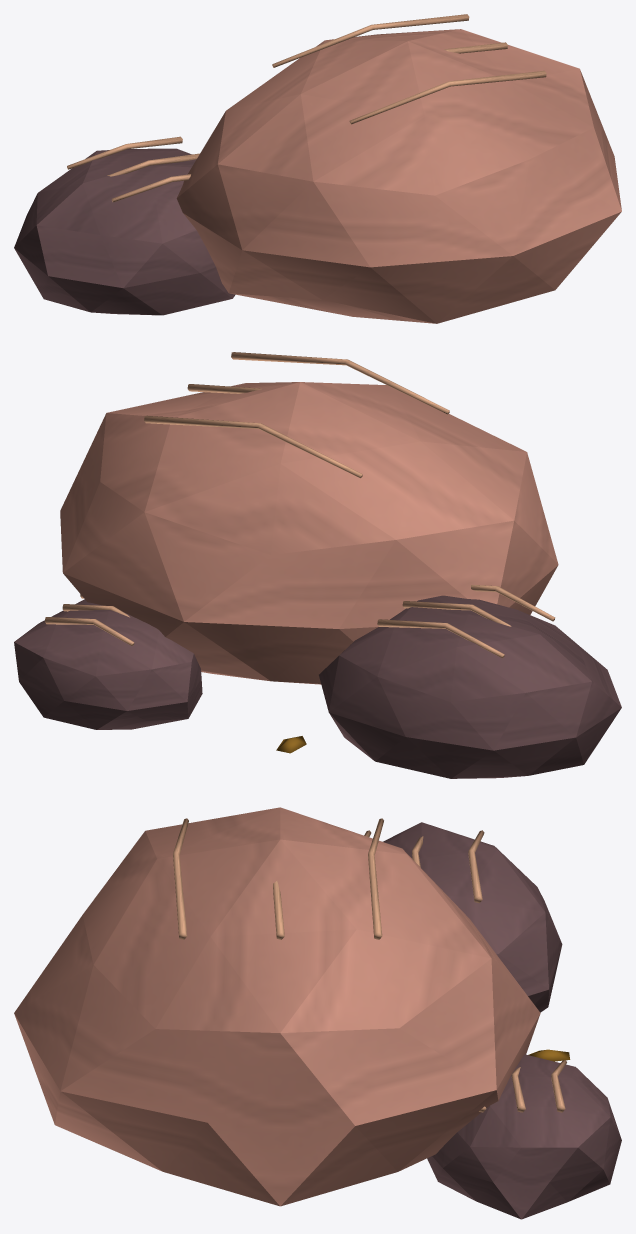
File: PilotBoulder_3.fbx
3 views of the same model, one above another, from view 1: azimuth 30°, elevation 25°; view 2: azimuth 150°, elevation 25°; view 3: azimuth 270°, elevation 25° (orthographic). The views are drawn at different scales.
Parts seen in each view (by area): view 1: PilotBoulder_3__Geometry; view 2: PilotBoulder_3__Geometry; view 3: PilotBoulder_3__Geometry.
Part boxes in pixels (x1,y1,x2,y2): PilotBoulder_3__Geometry: [14, 14, 621, 323]; PilotBoulder_3__Geometry: [14, 352, 621, 778]; PilotBoulder_3__Geometry: [14, 807, 621, 1219].
Size of the model in its own units: 1.64 by 0.7364 by 1.34.
